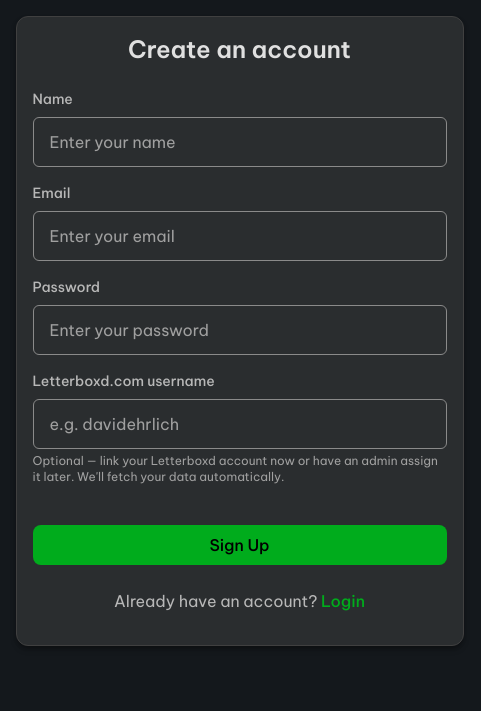
it: SignupPage › blocks submission and shows an inline error on invalid lbusername format
The image size is (481, 711).
Type "x" into the field labelled "Name" at (240, 142), box [32,117,446,167]
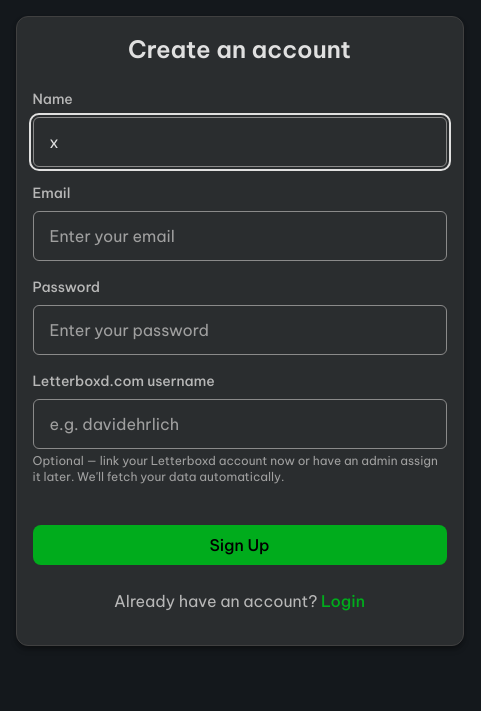
Type "x@example.test" into the field labelled "Email" at (240, 236), box [32,211,446,261]
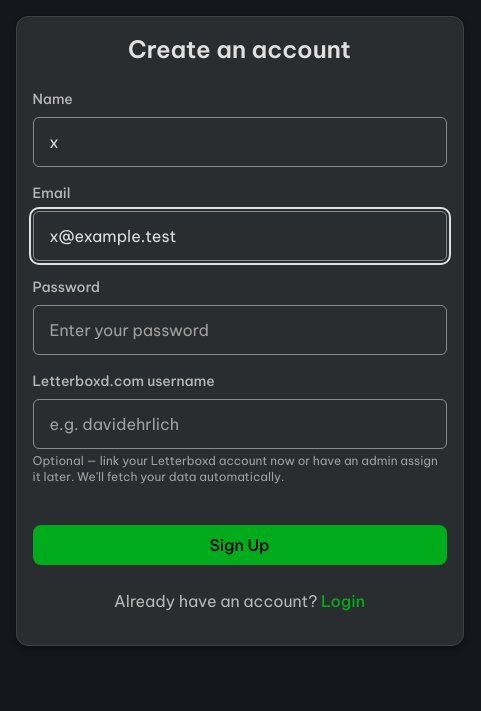
Type "secret" into the password field labelled "Password" at (240, 330), box [32,305,446,355]
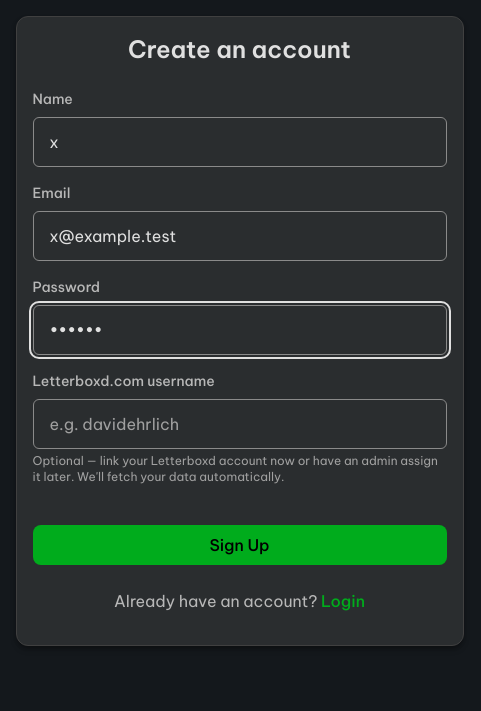
Type "!!!" into the field labelled "Letterboxd.com username" at (240, 424), box [32,399,446,449]
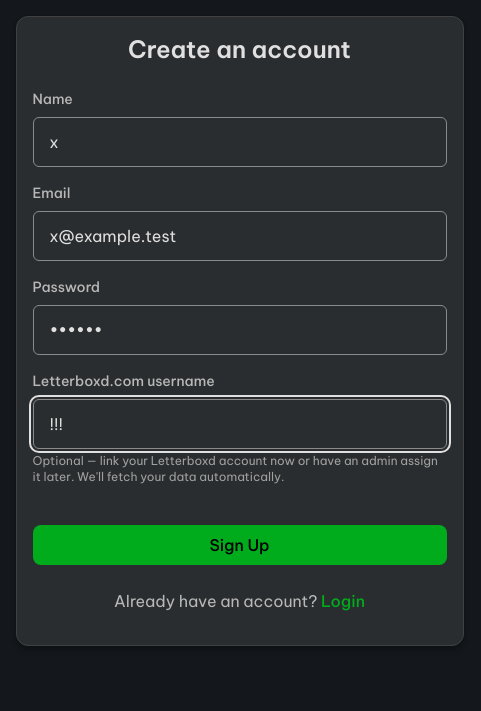
Click the button "Sign Up" at (240, 545), box [32,525,446,565]
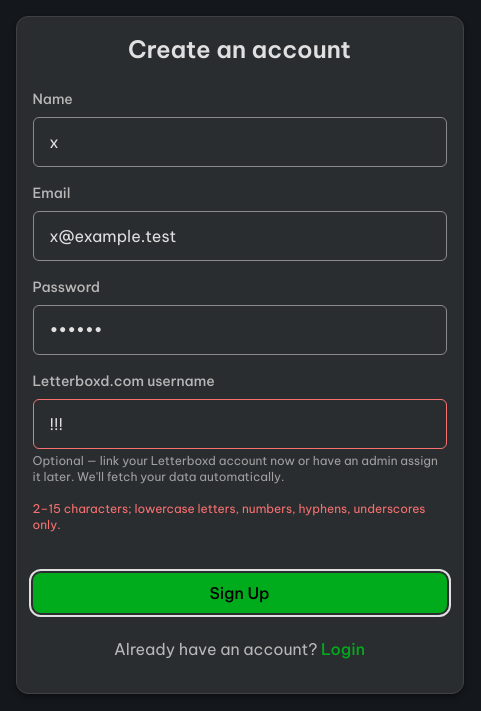
Expected: the text "2–15 characters; lowercase letters, numbers, hyphens, underscores only." is shown, [32,501,446,533]
